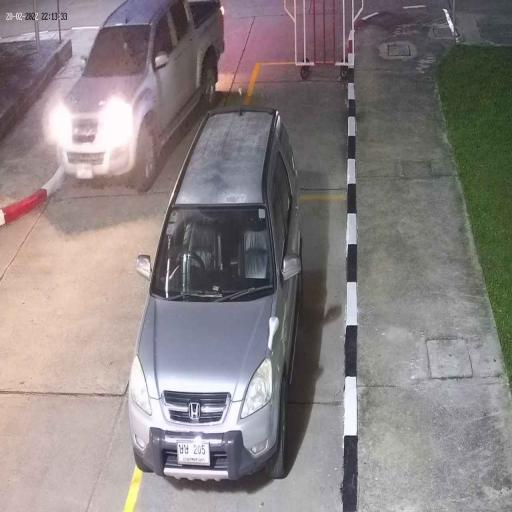car: (129, 105, 303, 487), (60, 0, 226, 189)
